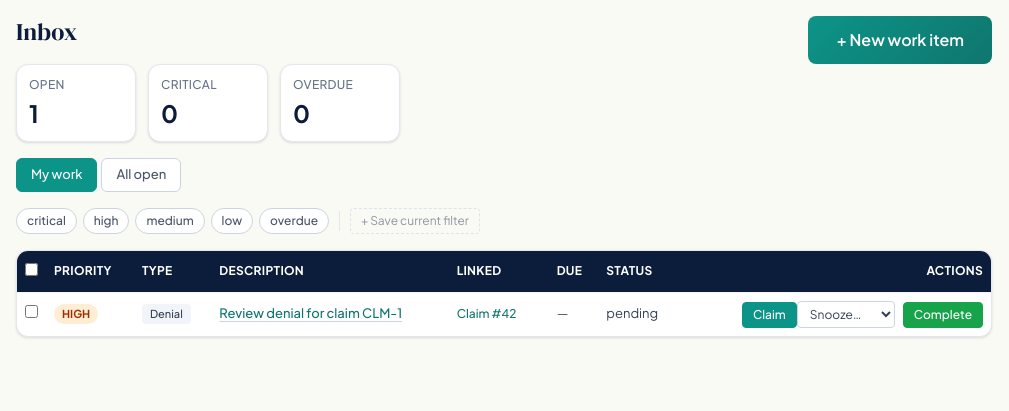
Test: InboxPage › snoozes an item via the dropdown
Check: the button "Review denial for claim CLM-1" is shown, box [219,304,402,324]
Select "Tomorrow" in the dropdown named "Snooze item 1" at (846, 314), box [797,300,895,328]
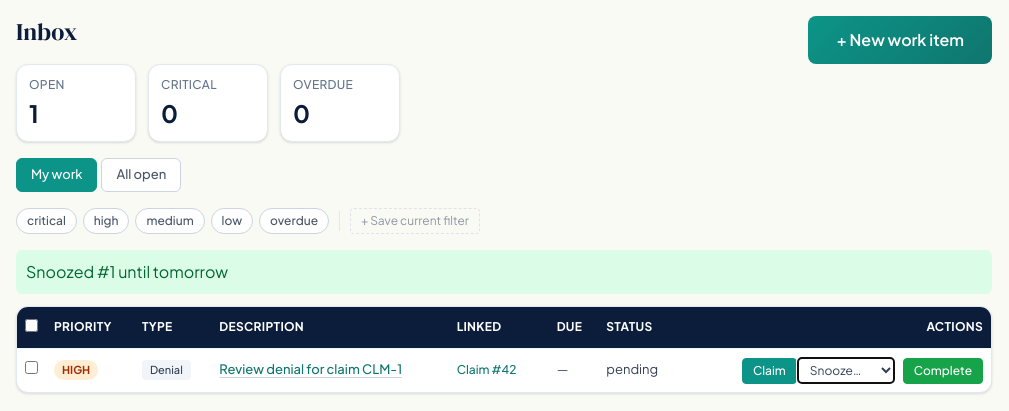
Check: the text "Snoozed #1 until tomorrow" is shown, box [16,250,992,294]
